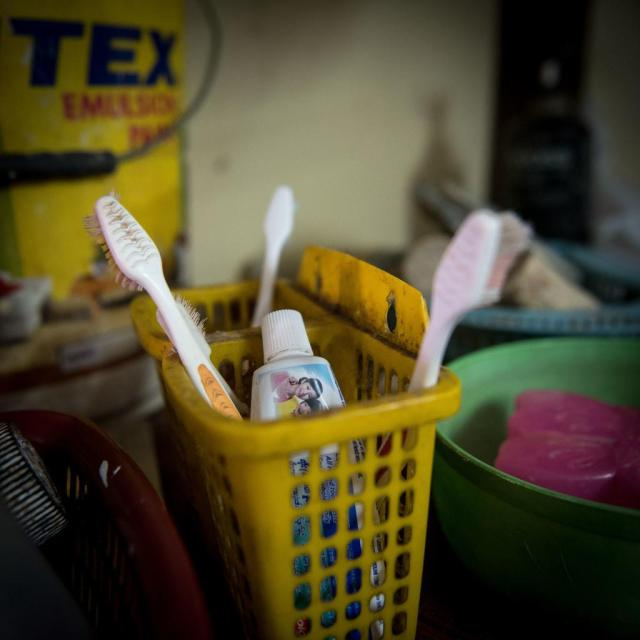Toothpaste: (244, 308, 394, 640)
